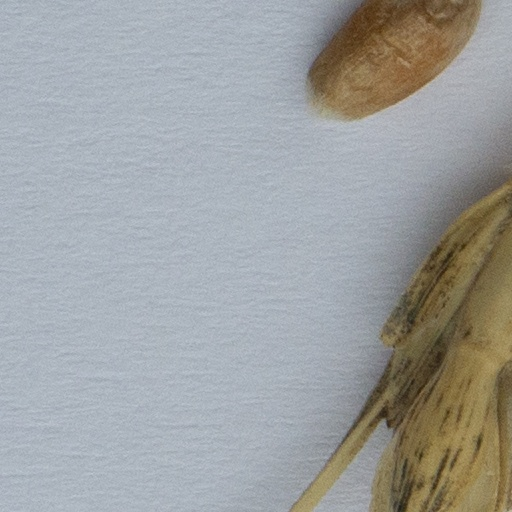Peel-poly: (288, 185, 511, 511)
